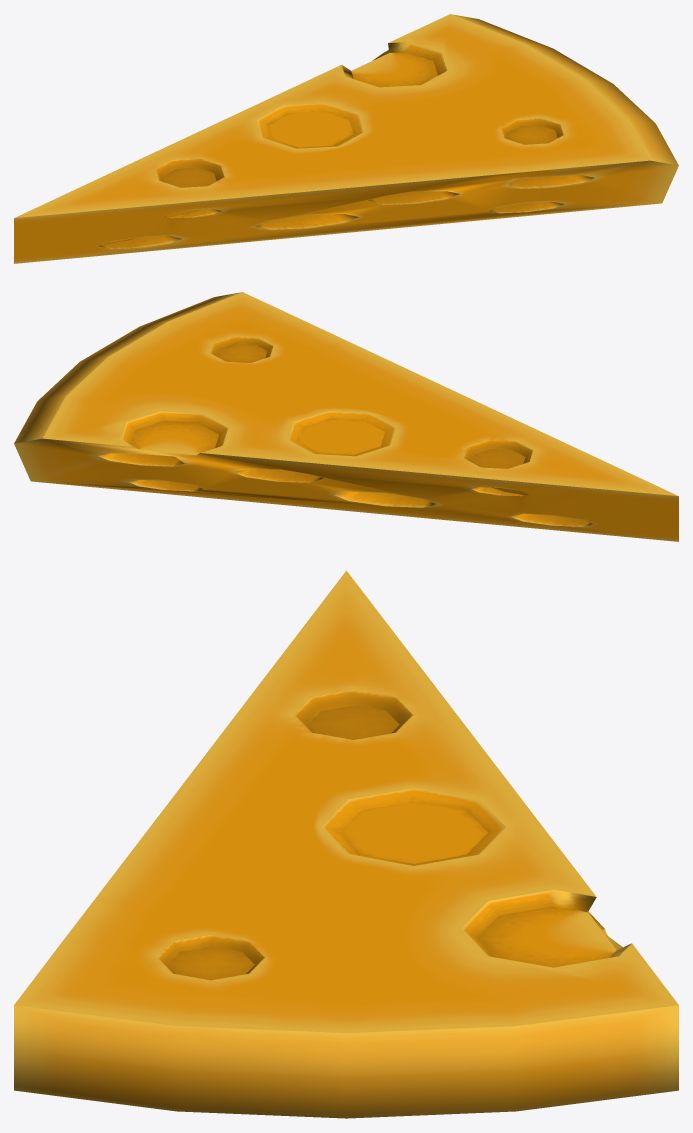
File: Cheese_Slice.fbx
3 renders of one model, top to bottom at view 1: azimuth 30°, elevation 25°; view 2: azimuth 150°, elevation 25°; view 3: azimuth 270°, elevation 25°, orthographic. The views are drawn at different scales.
Visible parts, largest first — view 1: Cheese1; view 2: Cheese1; view 3: Cheese1.
Part boxes in pixels (<box>): Cheese1: <box>14,14,678,263</box>; Cheese1: <box>14,292,678,541</box>; Cheese1: <box>14,570,678,1118</box>.
Size of the model in its own units: 70.97 by 5.17 by 41.06.
